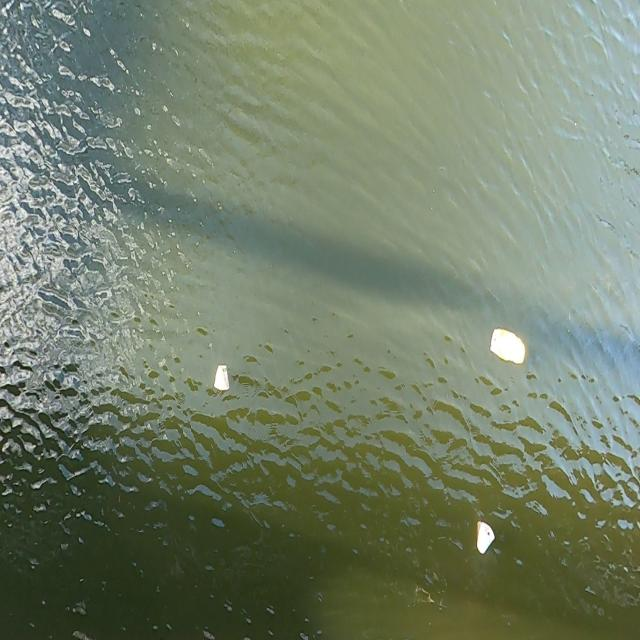Non plastique: (470, 513, 498, 564), (208, 358, 233, 397)
